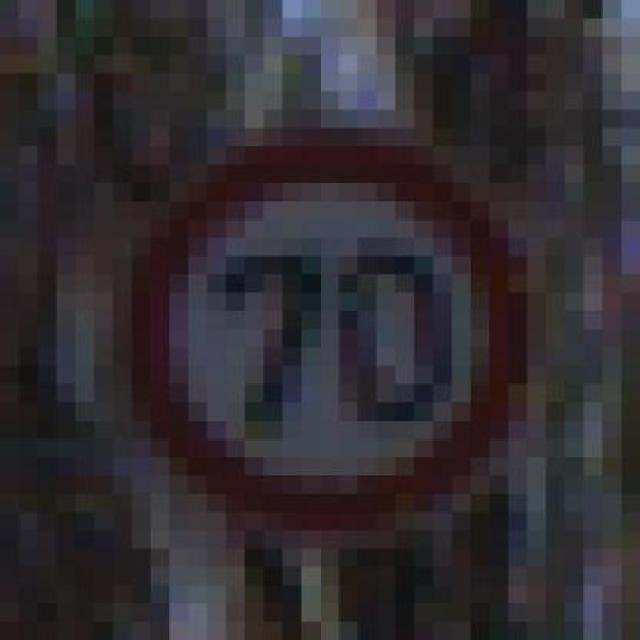forb_speed_over_70: (126, 130, 532, 527)
